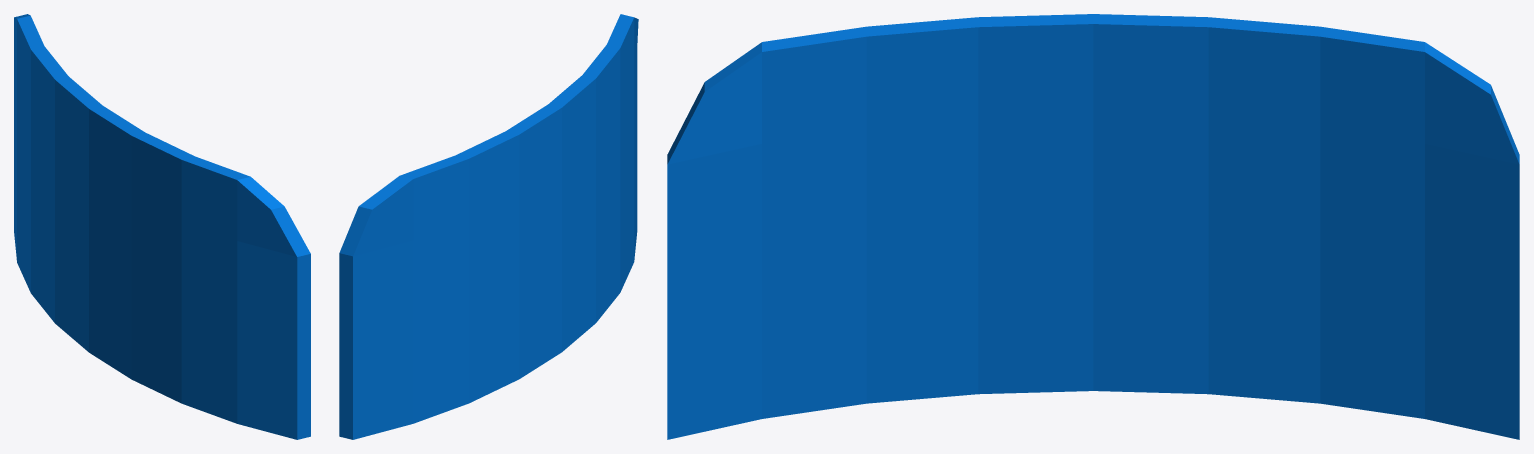
Rendered from reject.glb.
3 renders of one model, left to right at view 1: azimuth 30°, elevation 25°; view 2: azimuth 150°, elevation 25°; view 3: azimuth 270°, elevation 25°, orthographic. The views are drawn at different scales.
Parts seen in each view (by area): view 1: Circle; view 2: Circle; view 3: Circle.
Part boxes in pixels (x1,y1,x2,y2): Circle: (14, 14, 310, 439); Circle: (339, 14, 638, 439); Circle: (667, 14, 1519, 439).
Bounding box in the file's own units: 0.1496 × 0.434 × 0.9134.
